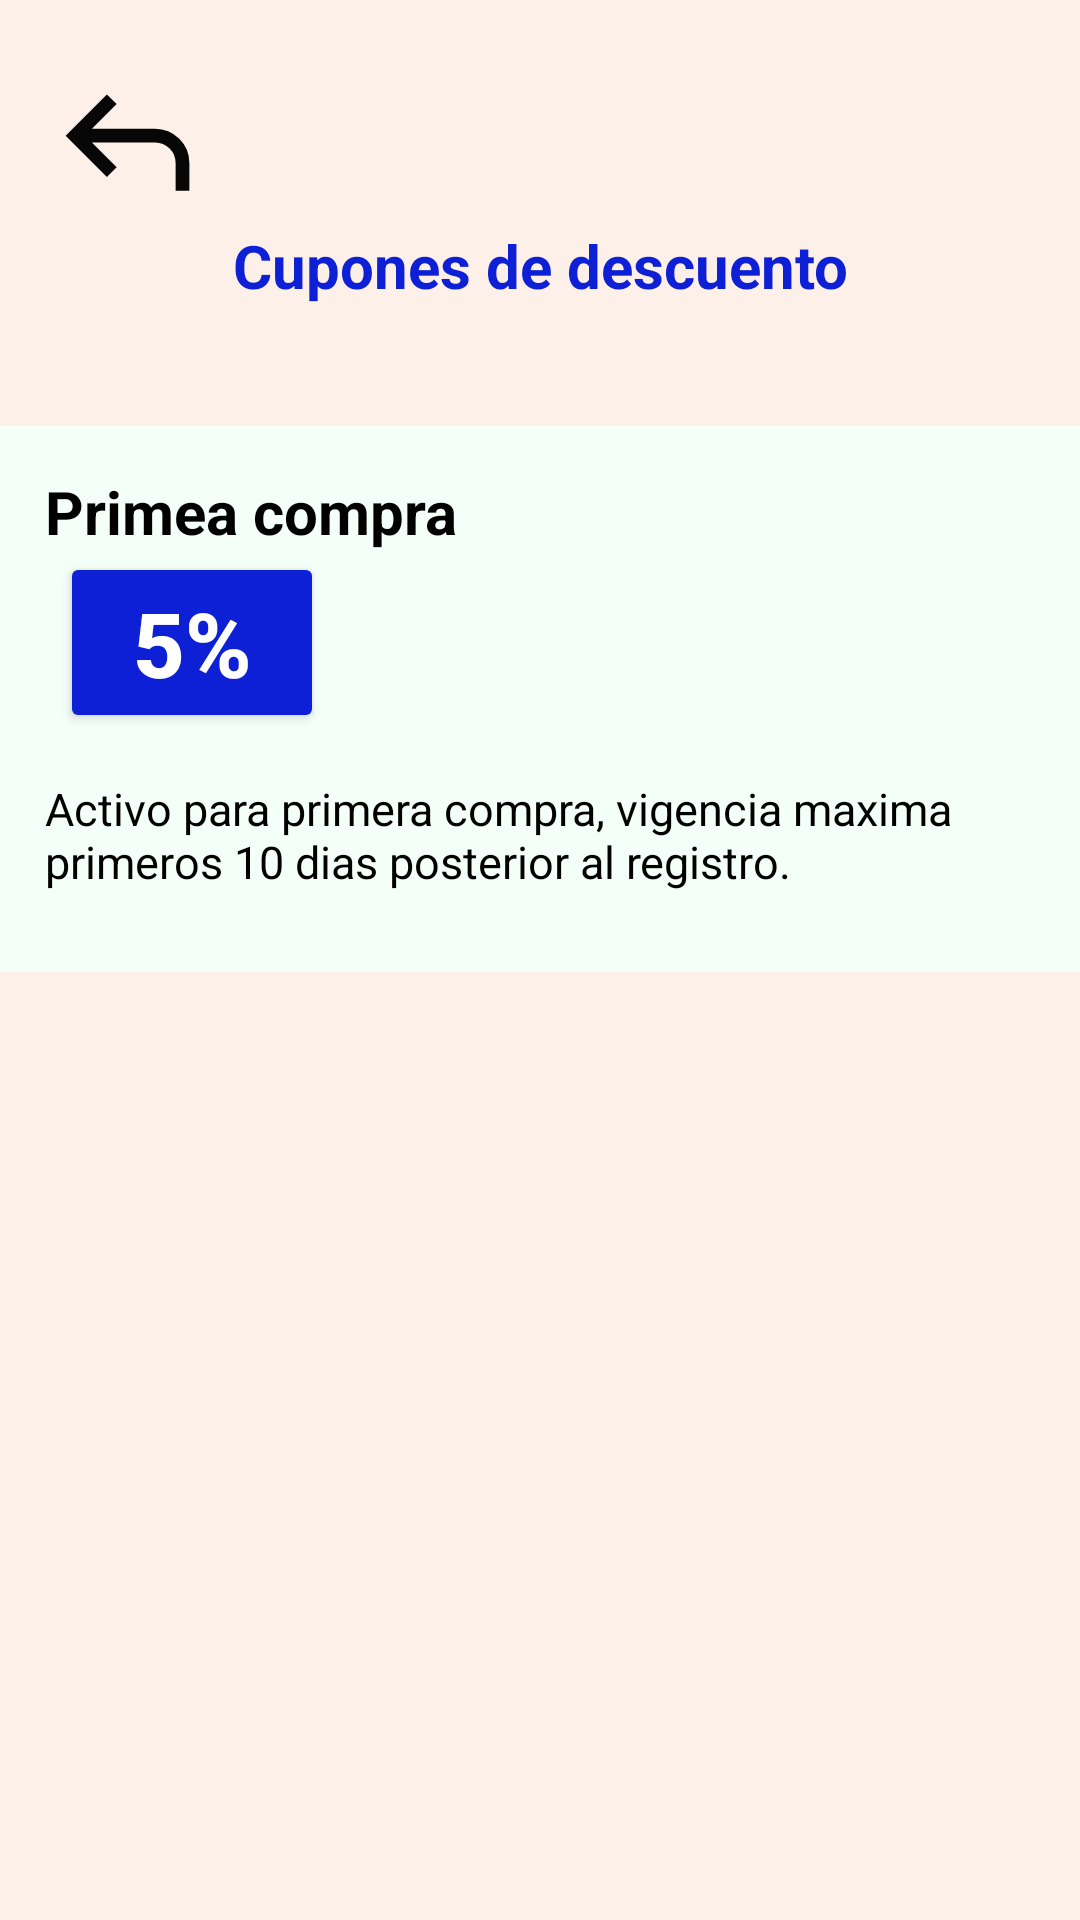

Icon click points for this 1080px×1920px phone screenshot, format (x=x, y=y):
regresar: (x=127, y=142)
